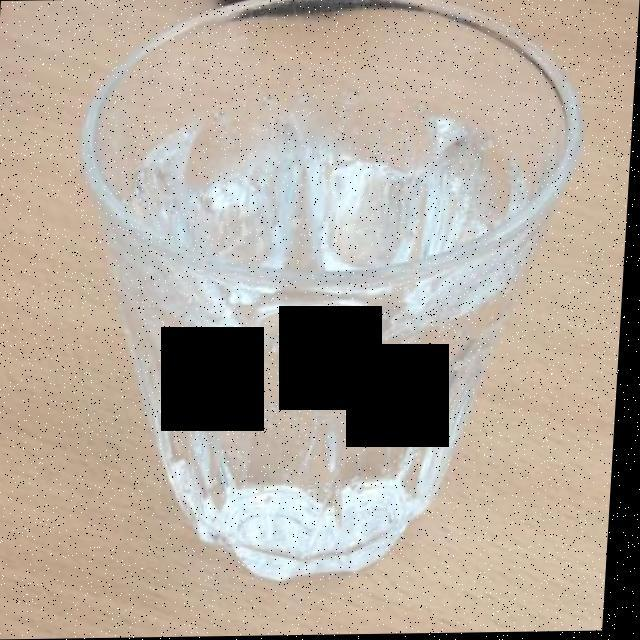water: (130, 86, 526, 276)
